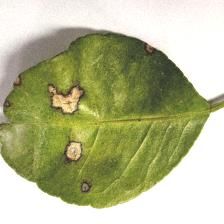canker: (5, 59, 108, 197)
